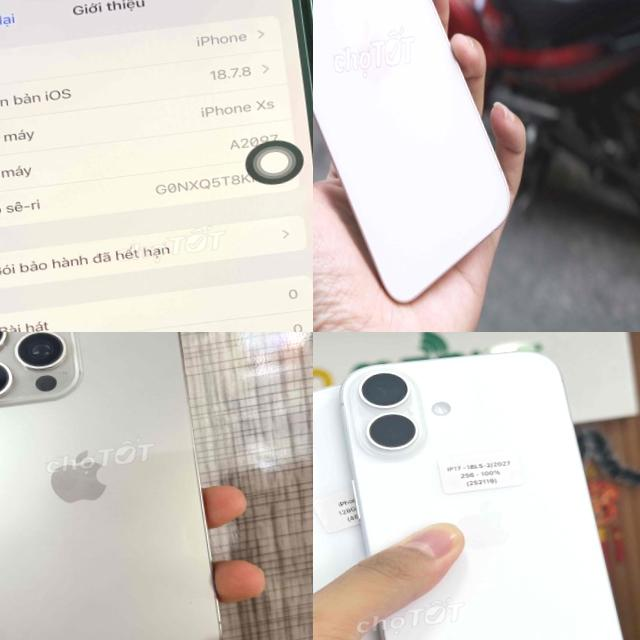gen_15: (0, 332, 236, 640)
gen_17: (336, 332, 640, 640), (313, 0, 534, 323)
gen_x_xs: (0, 0, 313, 332)
